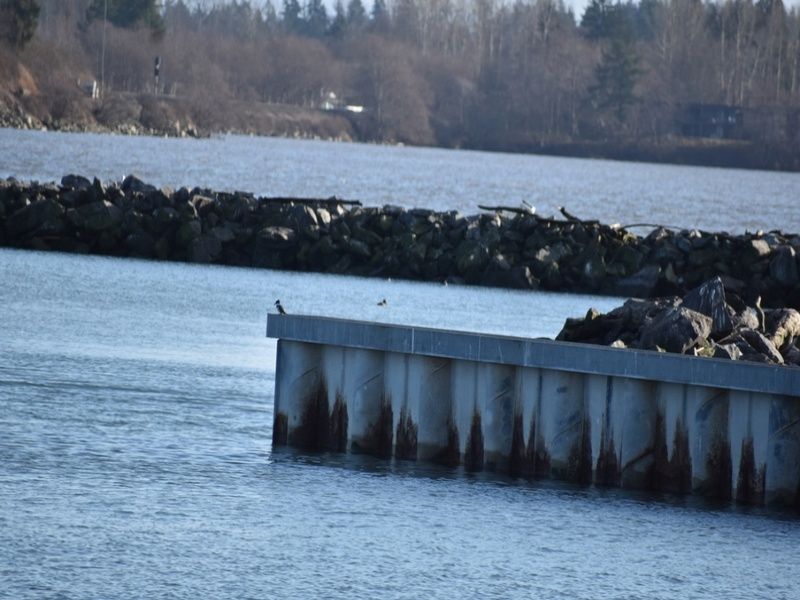kingfisher: (275, 299, 285, 313)
